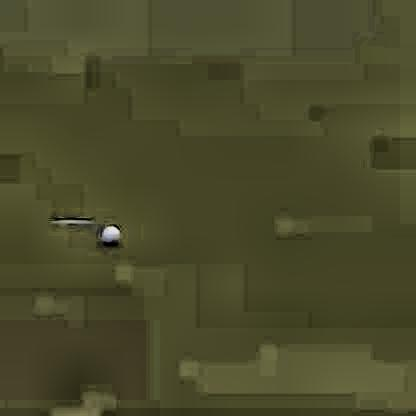golfball: (98, 222, 118, 244)
